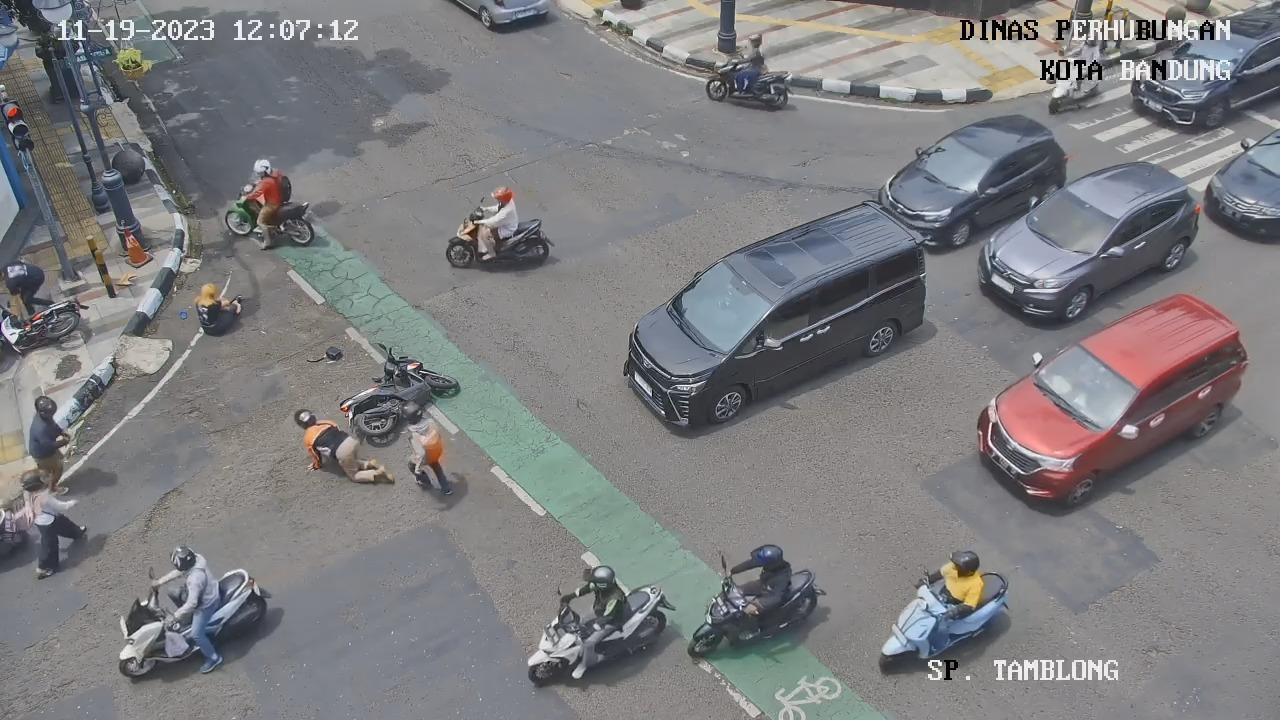accident: (289, 405, 395, 505), (189, 277, 250, 345)
